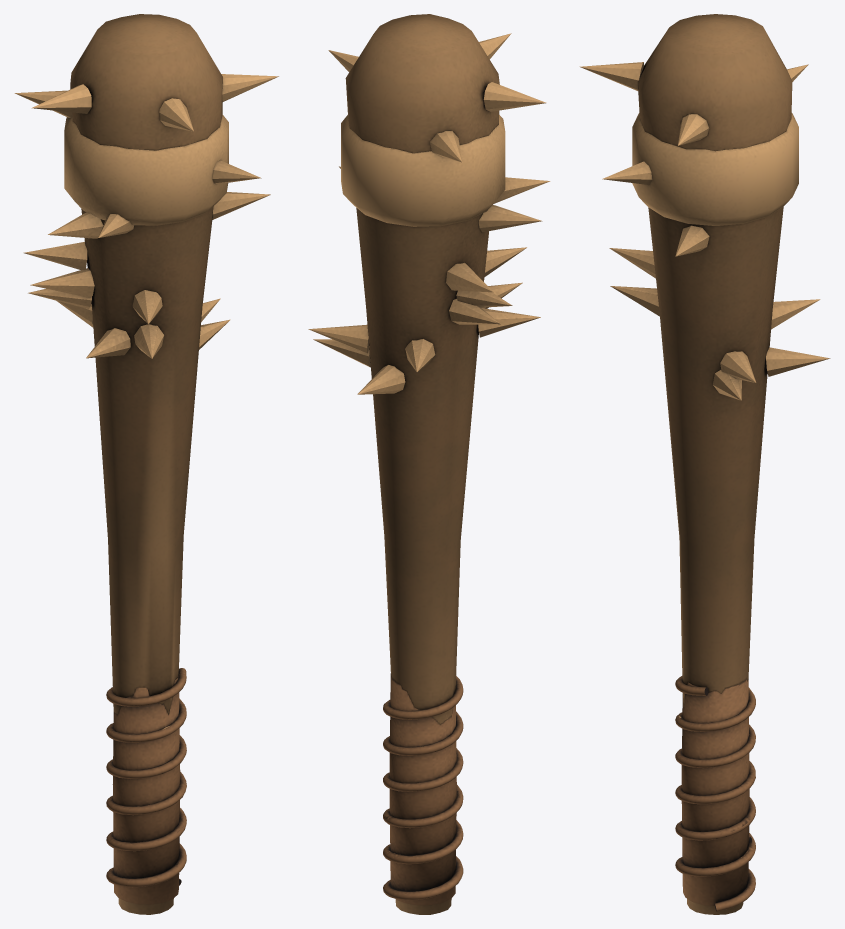
The model's file is arma_clava_refinada.glb.
3 views of the same model, side by side, from view 1: azimuth 30°, elevation 25°; view 2: azimuth 150°, elevation 25°; view 3: azimuth 270°, elevation 25° (orthographic).
Visible parts, largest first — view 1: arma_clava_refinada; view 2: arma_clava_refinada; view 3: arma_clava_refinada.
Part boxes in pixels (x1,y1,x2,y2): arma_clava_refinada: [14, 14, 278, 914]; arma_clava_refinada: [308, 14, 550, 914]; arma_clava_refinada: [579, 14, 830, 914].
Bounding box in the file's own units: 0.2146 × 0.7706 × 0.1996.
Materials: 1 (1 with a texture image).
